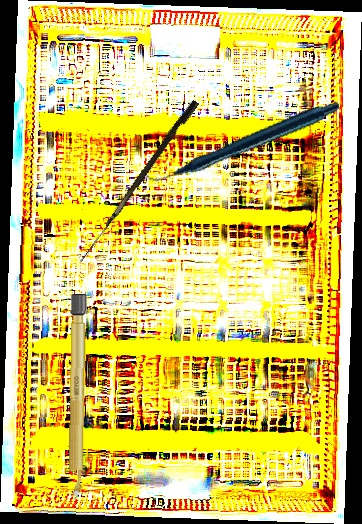Handpiece: (143, 61, 341, 221)
Hook Surgical: (79, 97, 200, 268)
Scalpel Handle: (66, 293, 87, 500)
